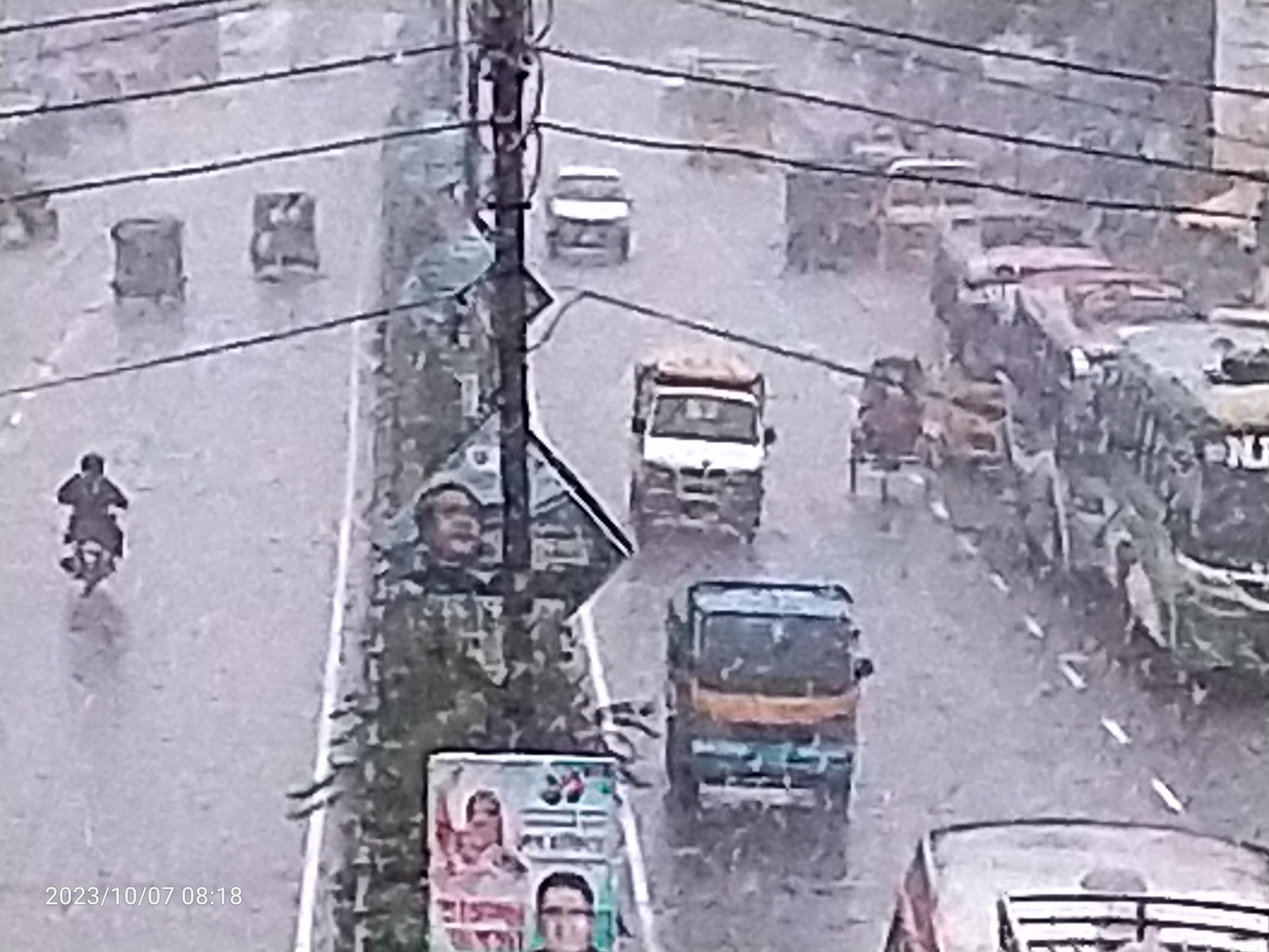Bike: (12, 421, 153, 627)
Bus: (1080, 294, 1269, 710), (853, 796, 1269, 952), (999, 272, 1159, 571)
Car: (585, 323, 799, 556), (825, 329, 962, 523), (530, 146, 651, 284)
Truck: (642, 551, 891, 843)
